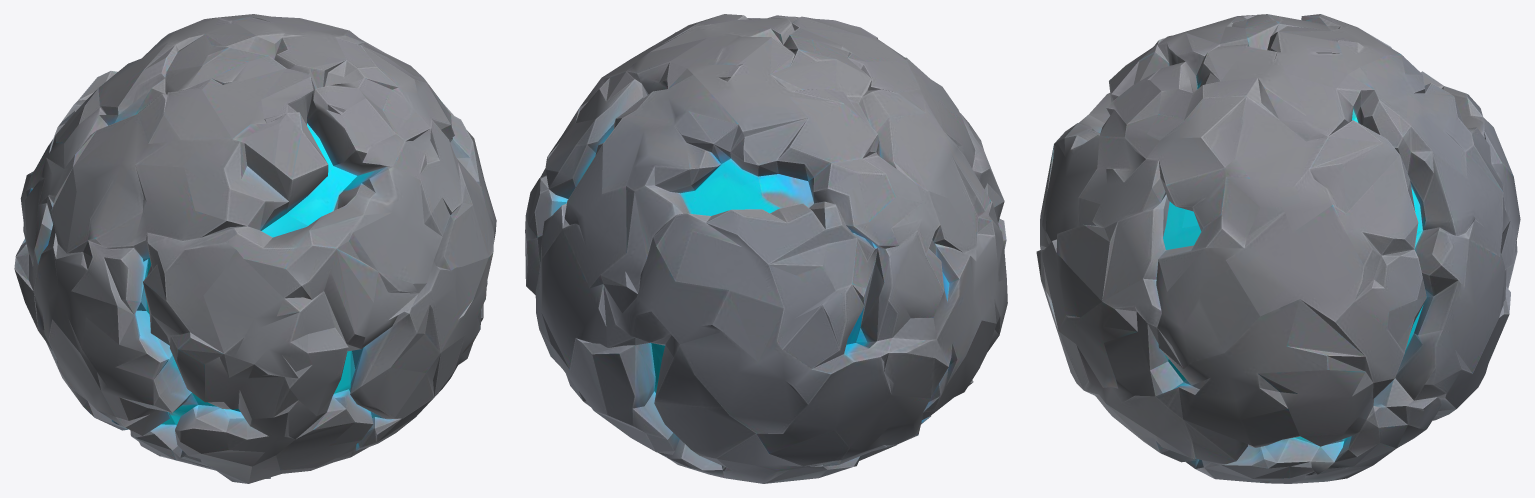
File: float-rock.glb
3 renders of one model, left to right at view 1: azimuth 30°, elevation 25°; view 2: azimuth 150°, elevation 25°; view 3: azimuth 270°, elevation 25°, orthographic.
Size of the model in its own units: 1.9 by 1.84 by 1.88.
Materials: 1 (1 with a texture image).
